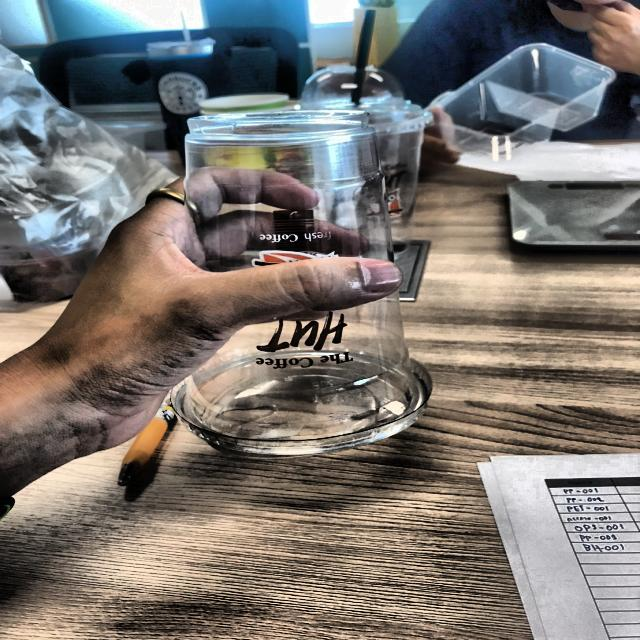plastic cup: (163, 91, 454, 476)
